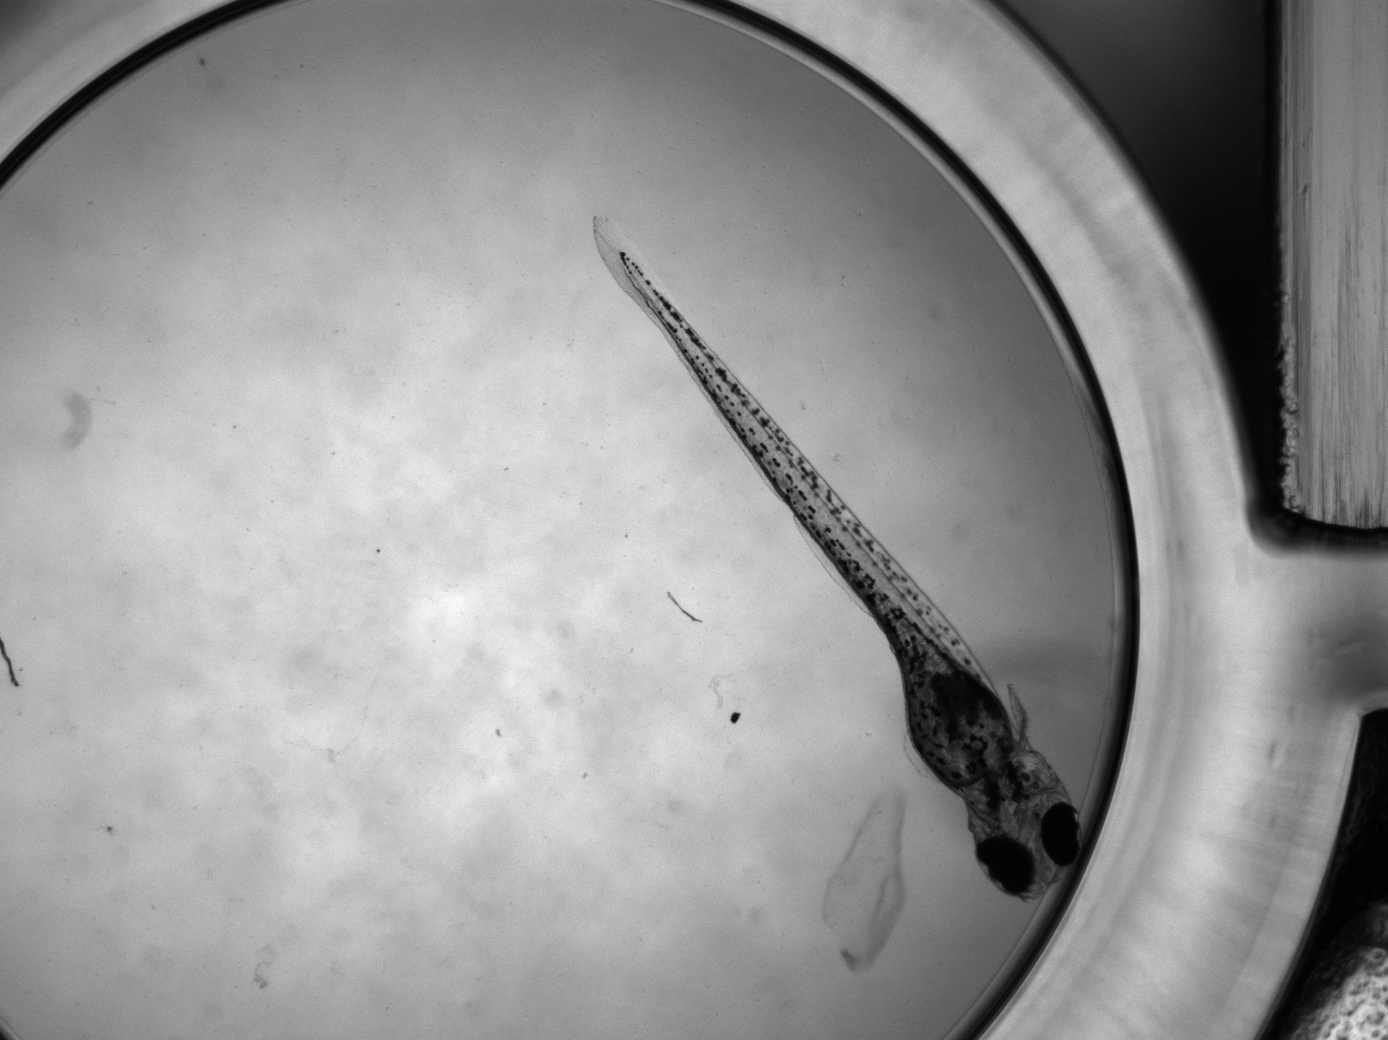debris: (822, 781, 907, 972)
embryo: (590, 211, 1081, 902)
eye: (975, 835, 1035, 898), (1041, 803, 1082, 868)
yolksac: (904, 664, 1012, 789)
